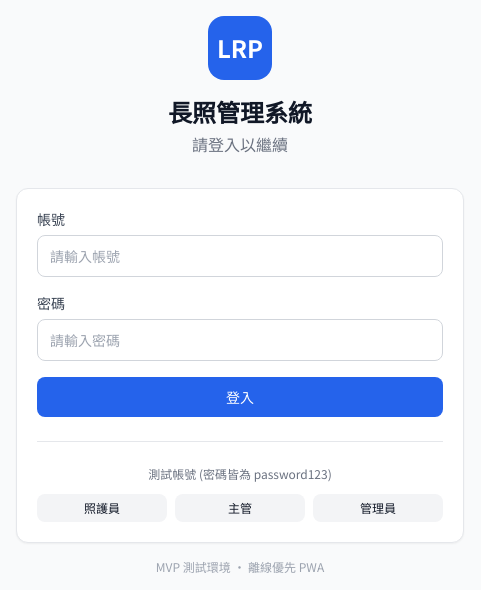
Test: Auth Flow Integration Tests › Login Page › should fill demo credentials when clicking demo buttons
Click the button "照護員": (102, 508) 37,494 -> 167,522
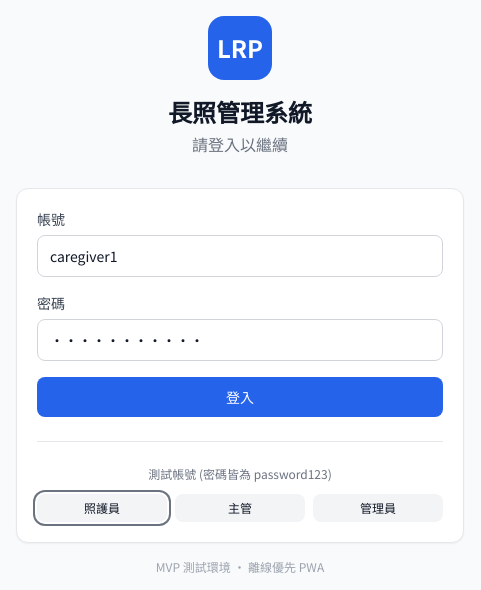
Result: the field labelled "帳號" holds "caregiver1" at 37,234 -> 443,276
Result: the password field labelled "密碼" holds "password123" at 37,318 -> 443,360
